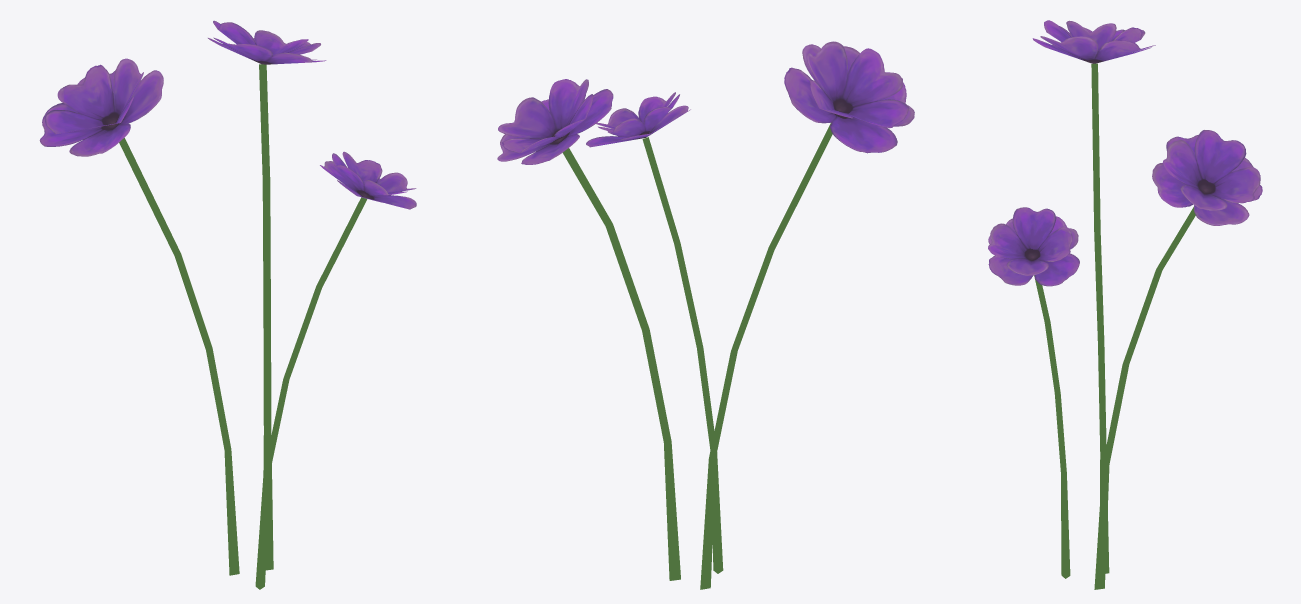
Rendered from MEADOW_SM_Flower_02_01.gltf.
3 views of the same model, side by side, from view 1: azimuth 30°, elevation 25°; view 2: azimuth 150°, elevation 25°; view 3: azimuth 270°, elevation 25° (orthographic). The views are drawn at different scales.
Visible parts, largest first — view 1: SM_Flower_02_01_LOD0; view 2: SM_Flower_02_01_LOD0; view 3: SM_Flower_02_01_LOD0.
Part boxes in pixels (box(x1,y1,x2,y2)): SM_Flower_02_01_LOD0: box(39, 20, 416, 589); SM_Flower_02_01_LOD0: box(497, 41, 914, 589); SM_Flower_02_01_LOD0: box(988, 20, 1262, 589).
Bounding box in the file's own units: 0.4451 × 0.6541 × 0.3606.
1 material, 1 textured.
